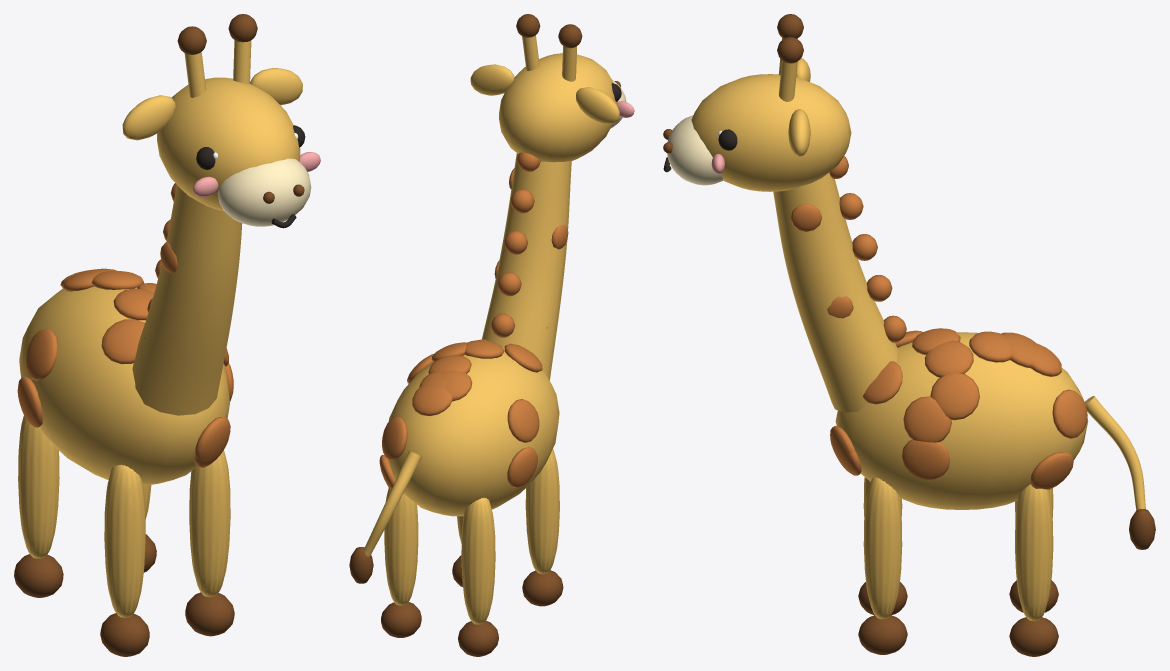
The model's file is giraffe.glb.
3 views of the same model, side by side, from view 1: azimuth 30°, elevation 25°; view 2: azimuth 150°, elevation 25°; view 3: azimuth 270°, elevation 25° (orthographic). The views are drawn at different scales.
Visible parts, largest first — view 1: body, neck, skull, leg0, leg1, leg2, muzzle, hoof0, hoof1, hoof2, ear-1, spot7 (+11 smaller); view 2: body, neck, skull, leg2, leg0, leg3, tailmesh, hoof0, hoof3, hoof2, ear-1, spot0 (+17 smaller); view 3: body, neck, skull, leg1, leg3, muzzle, spot2, spot12, tailmesh, spot9, hoof1, hoof3 (+10 smaller).
Boxes of the visible parts, x1,y1,x2,y2 form: body: [19, 286, 229, 485]; neck: [132, 184, 242, 415]; skull: [157, 77, 300, 211]; leg0: [104, 464, 145, 617]; leg1: [189, 450, 230, 597]; leg2: [18, 415, 59, 558]; muzzle: [217, 158, 311, 226]; hoof0: [100, 613, 149, 656]; hoof1: [185, 592, 234, 636]; hoof2: [14, 554, 63, 597]; ear-1: [122, 95, 175, 140]; spot7: [101, 319, 144, 364]; body: [387, 347, 559, 516]; neck: [482, 153, 571, 380]; skull: [499, 53, 617, 162]; leg2: [461, 497, 495, 624]; leg0: [525, 449, 559, 574]; leg3: [384, 488, 418, 605]; tailmesh: [364, 451, 421, 556]; hoof0: [522, 570, 563, 606]; hoof3: [381, 602, 421, 637]; hoof2: [458, 621, 498, 656]; ear-1: [576, 87, 619, 124]; spot0: [507, 399, 539, 442]; body: [835, 332, 1088, 509]; neck: [773, 172, 898, 412]; skull: [691, 74, 851, 191]; leg1: [863, 477, 902, 619]; leg3: [1015, 484, 1053, 621]; muzzle: [667, 115, 722, 185]; spot2: [930, 373, 979, 420]; spot12: [903, 396, 951, 442]; tailmesh: [1084, 396, 1145, 509]; spot9: [901, 439, 949, 480]; hoof1: [858, 615, 907, 654]; hoof3: [1009, 617, 1058, 656].
Bounding box in the file's own units: 0.8467 × 2.97 × 2.19.
